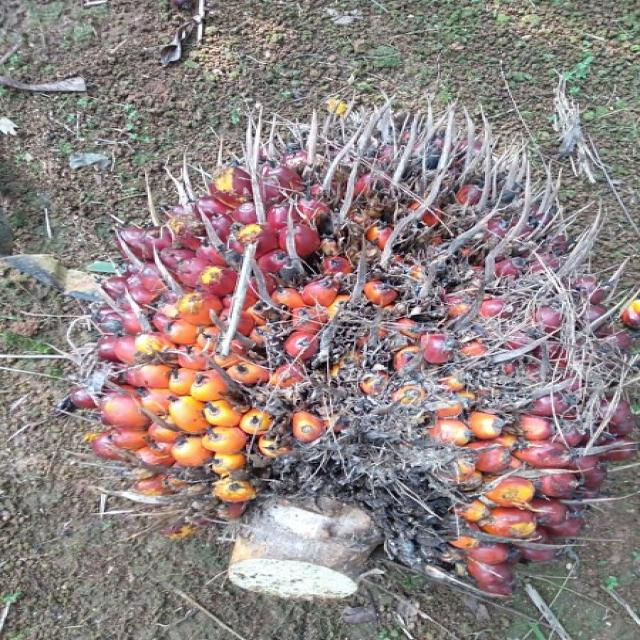fraksi 3: (35, 66, 638, 624)
